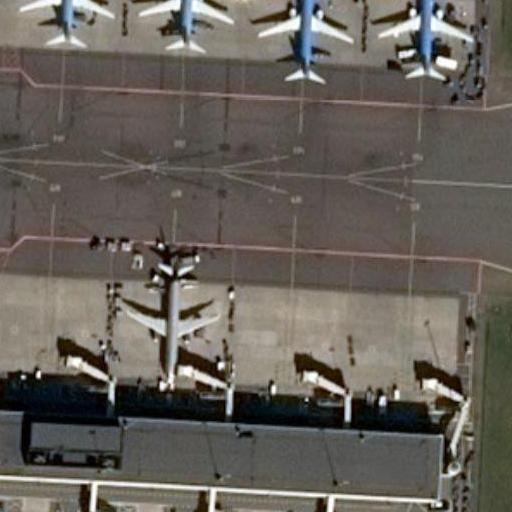Aircraft: (117, 245, 226, 380), (373, 0, 477, 83), (258, 0, 351, 88), (138, 0, 234, 53), (17, 0, 117, 49)
